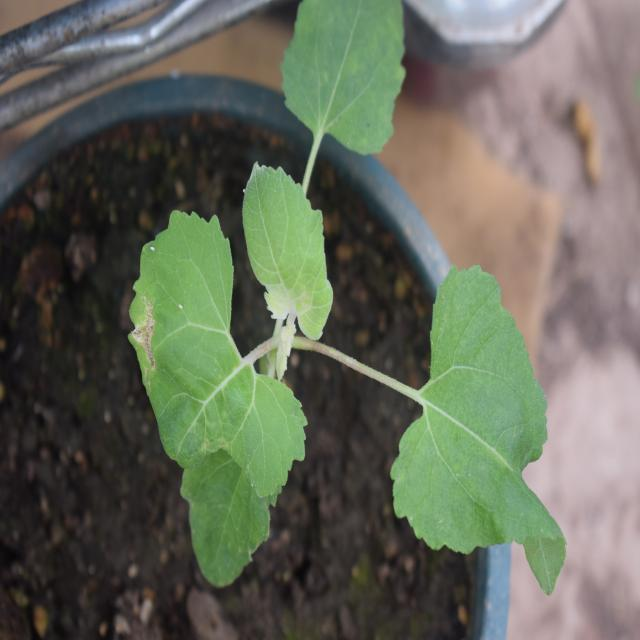cocklebur: (121, 25, 579, 588)
